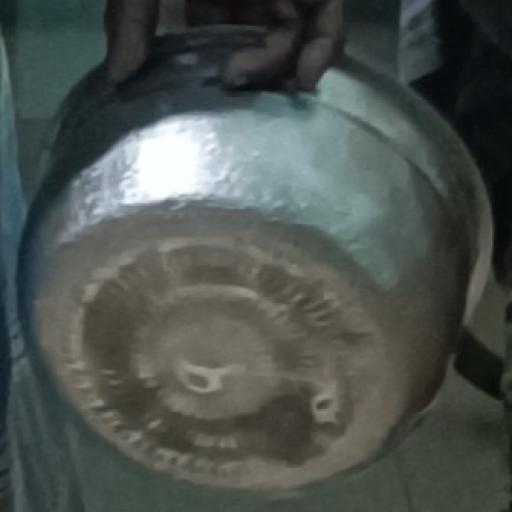vessel: (21, 27, 491, 489)
